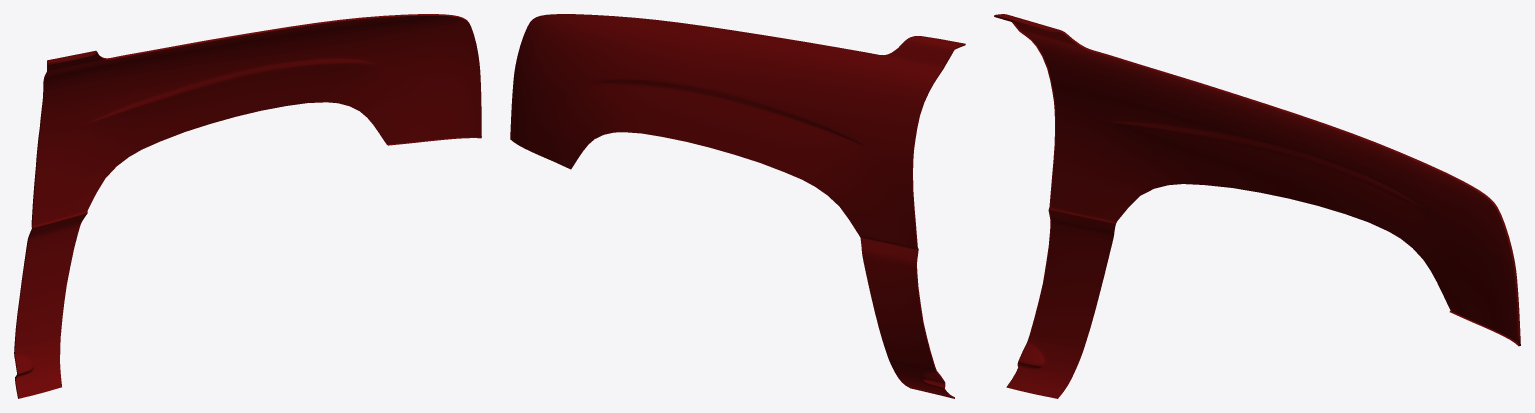
3 views of the same model, side by side, from view 1: azimuth 30°, elevation 25°; view 2: azimuth 150°, elevation 25°; view 3: azimuth 330°, elevation 25° (orthographic). The views are drawn at different scales.
Visible parts, largest first — view 1: U805_4A_121B_L_U805_4A_121B_L_1_DaS, U805_4A_121B_L_U805_4A_121B_L_1_DaS_E; view 2: U805_4A_121B_L_U805_4A_121B_L_1_DaS, U805_4A_121B_L_U805_4A_121B_L_1_DaS_E; view 3: U805_4A_121B_L_U805_4A_121B_L_1_DaS, U805_4A_121B_L_U805_4A_121B_L_1_DaS_E.
Part boxes in pixels (x1,y1,x2,y2): U805_4A_121B_L_U805_4A_121B_L_1_DaS: (15,15,481,398); U805_4A_121B_L_U805_4A_121B_L_1_DaS_E: (14,14,481,398); U805_4A_121B_L_U805_4A_121B_L_1_DaS: (510,14,964,398); U805_4A_121B_L_U805_4A_121B_L_1_DaS_E: (860,44,965,398); U805_4A_121B_L_U805_4A_121B_L_1_DaS: (995,14,1518,398); U805_4A_121B_L_U805_4A_121B_L_1_DaS_E: (994,15,1520,387).
Size of the model in its own units: 112 by 81.17 by 15.85.
